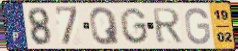7: (54, 5, 80, 47)
8: (25, 6, 53, 46)
G: (118, 7, 150, 46), (184, 6, 212, 46)
Q: (87, 6, 121, 47)
R: (151, 7, 185, 45)
